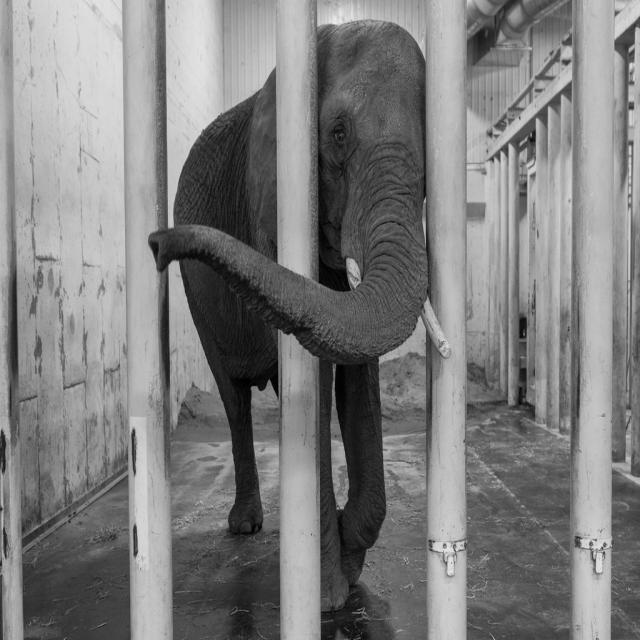elephant: (149, 16, 430, 614)
